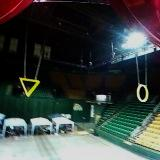Yellow_Circle_GShape: (135, 83, 148, 101)
Yellow_Triangle_Gshape: (19, 76, 40, 96)
